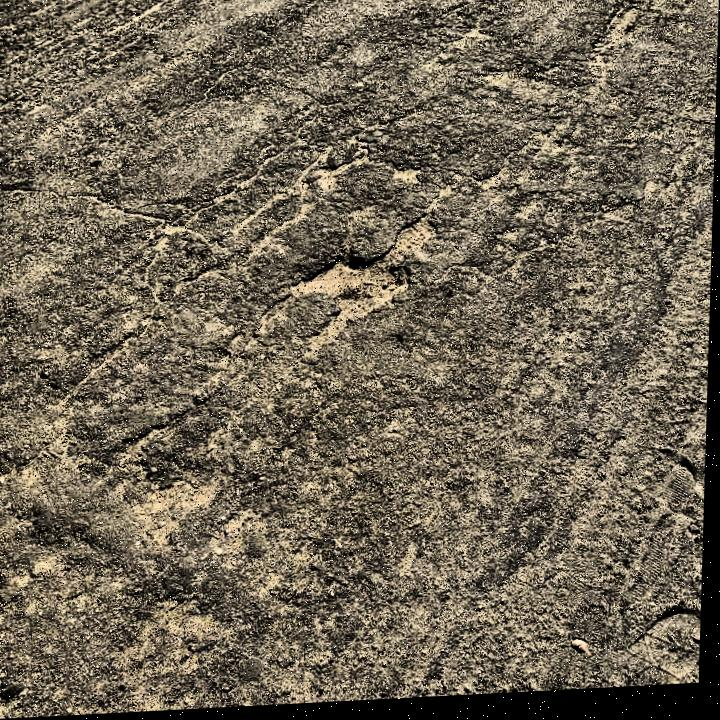pothole: (286, 252, 419, 327), (394, 217, 443, 254)
